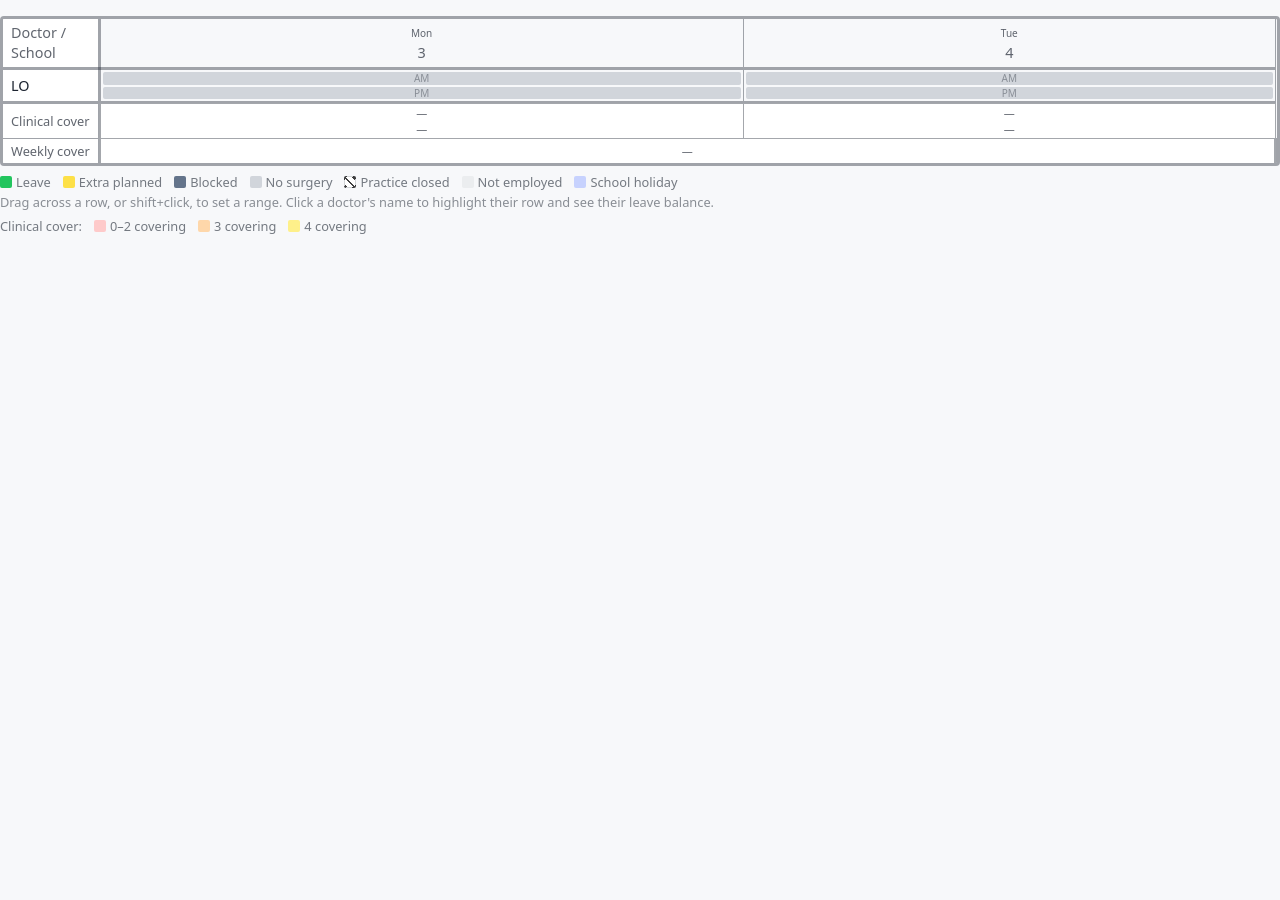
it: LeavePlanningGrid › disables TOIL for a doctor type with no leave entitlement, and says why
Click the 1st button "AM" at (422, 78), box [103,72,741,84]
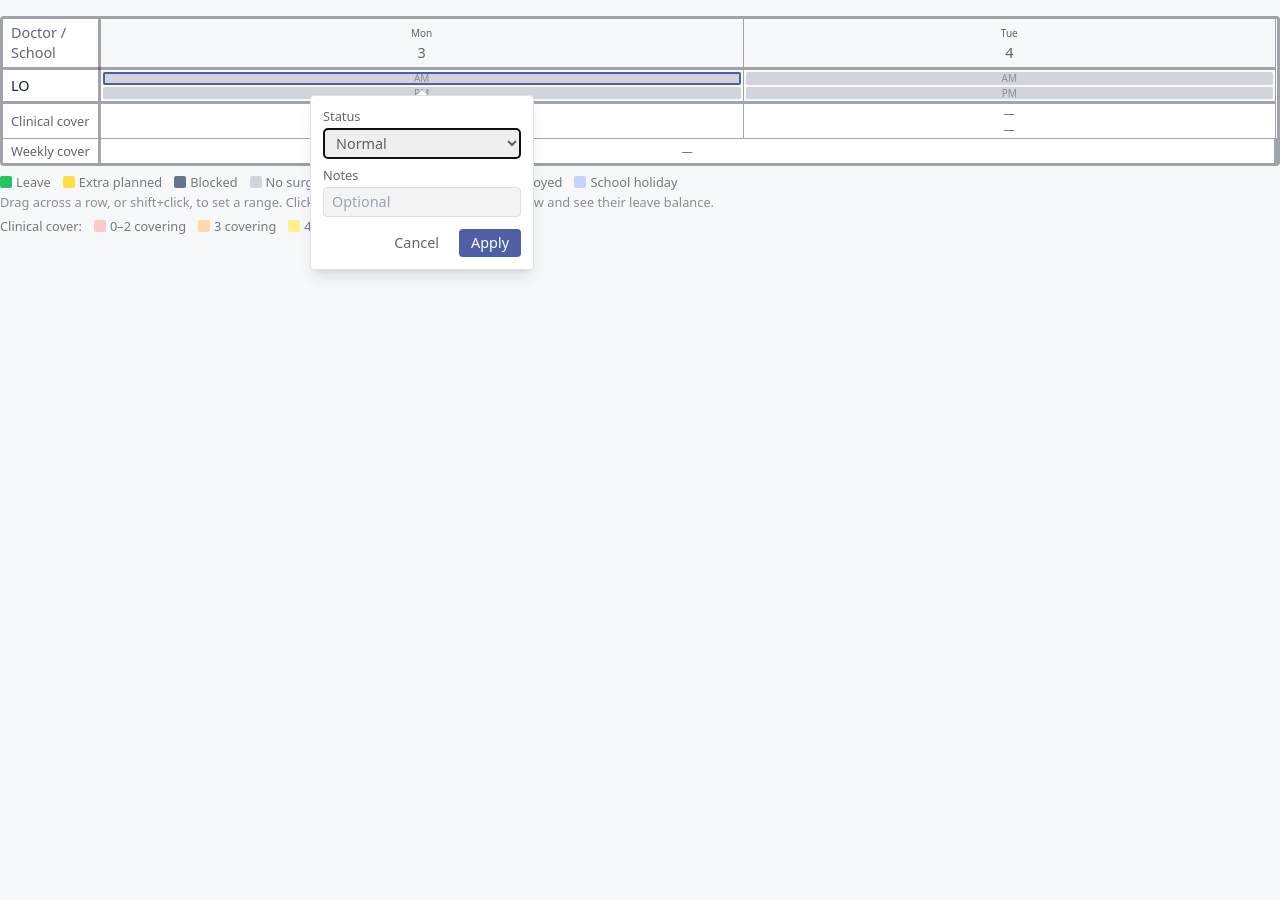
Select "Extra session" in the dropdown with test id "planning-cell-state-select" at (422, 144), box [323,128,521,159]
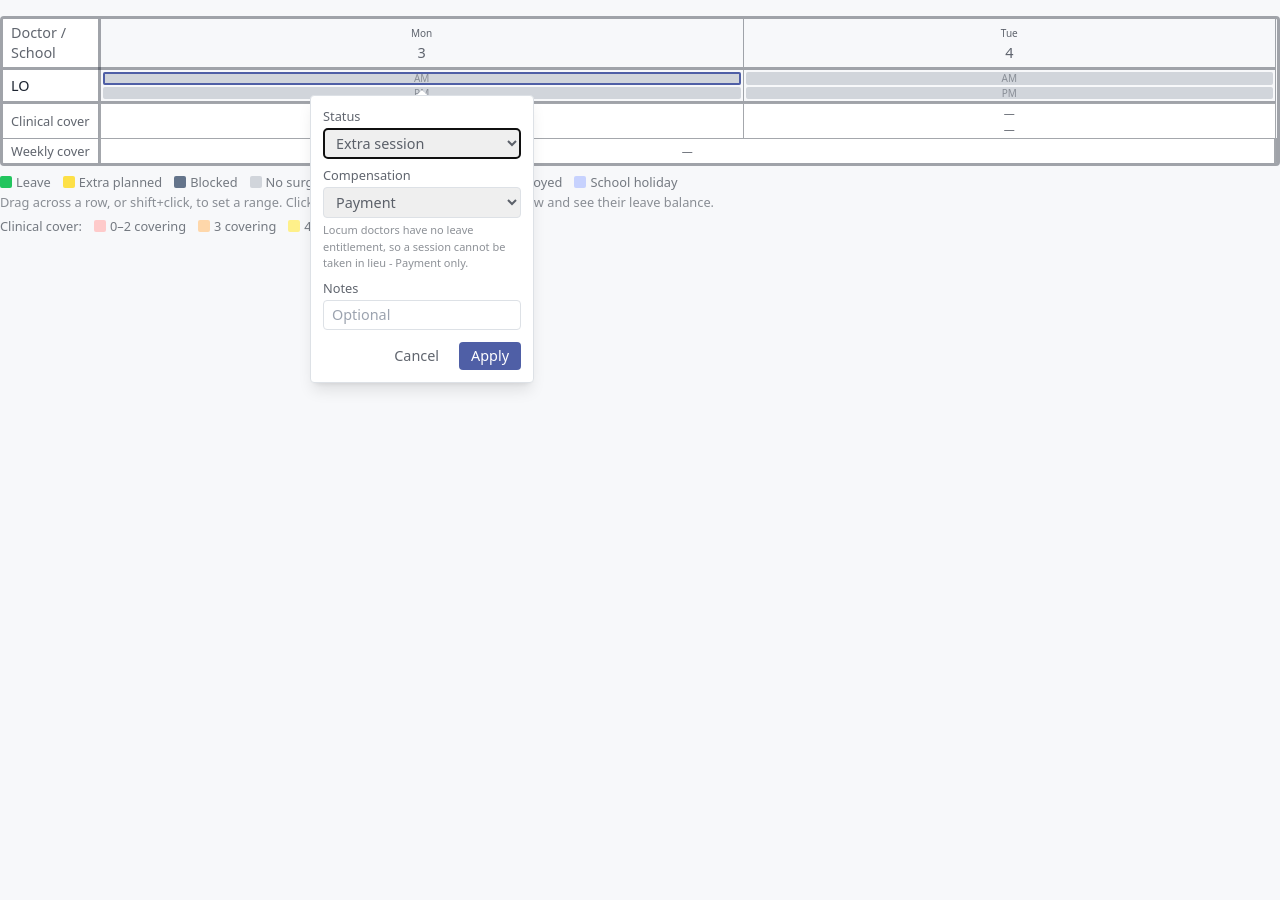
Check: the text "Locum doctors have no leave entitlement" is shown, box [323,222,505,270]
